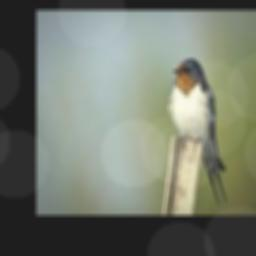Swallow: (167, 59, 228, 205)
